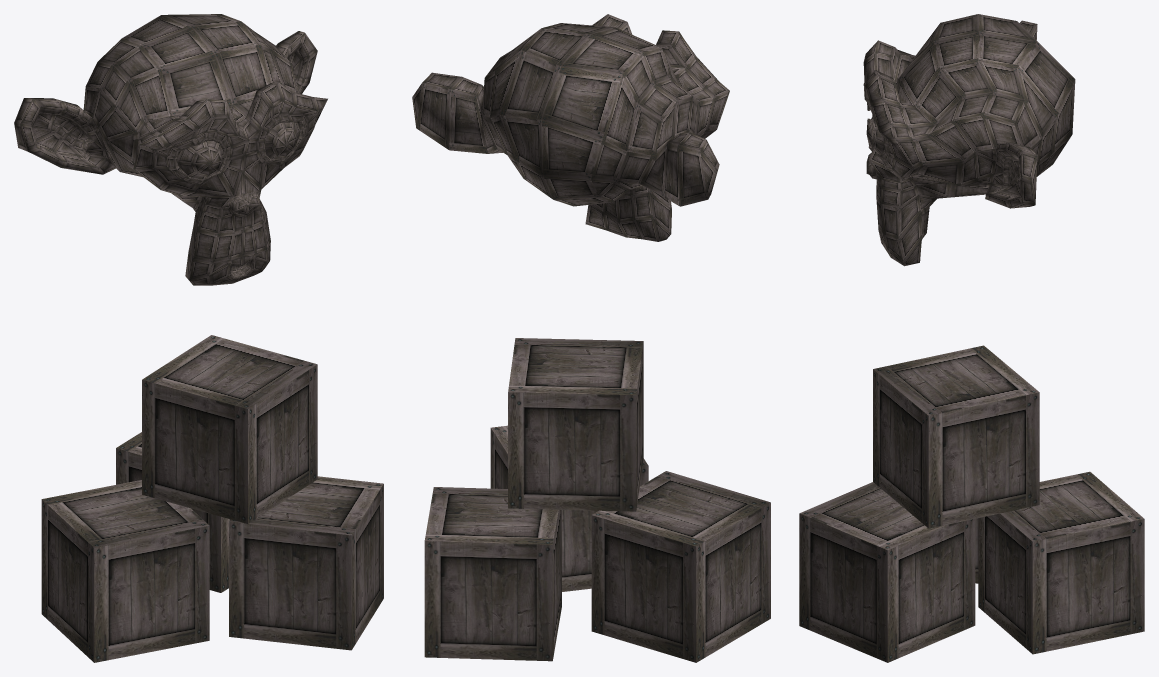
3 renders of one model, left to right at view 1: azimuth 30°, elevation 25°; view 2: azimuth 150°, elevation 25°; view 3: azimuth 270°, elevation 25°, orthographic. The views are drawn at different scales.
Parts seen in each view (by area): view 1: Suzanne, Crate.003_Cube.001, Crate.002_Cube.001, Crate.001_Cube.001, Crate_Cube.001; view 2: Suzanne, Crate.002_Cube.001, Crate.003_Cube.001, Crate_Cube.001, Crate.001_Cube.001; view 3: Suzanne, Crate.003_Cube.001, Crate.001_Cube.001, Crate_Cube.001.
Part boxes in pixels (x1=…): Suzanne: x1=14, y1=14, x2=327, y2=285; Crate.003_Cube.001: x1=142, y1=335, x2=317, y2=523; Crate.002_Cube.001: x1=41, y1=480, x2=209, y2=662; Crate.001_Cube.001: x1=229, y1=476, x2=383, y2=650; Crate_Cube.001: x1=116, y1=432, x2=230, y2=592; Suzanne: x1=412, y1=14, x2=729, y2=241; Crate.002_Cube.001: x1=591, y1=471, x2=770, y2=662; Crate.003_Cube.001: x1=508, y1=338, x2=643, y2=511; Crate_Cube.001: x1=424, y1=487, x2=561, y2=661; Crate.001_Cube.001: x1=490, y1=425, x2=648, y2=591; Suzanne: x1=863, y1=14, x2=1075, y2=266; Crate.003_Cube.001: x1=873, y1=345, x2=1039, y2=528; Crate.001_Cube.001: x1=799, y1=482, x2=975, y2=662; Crate_Cube.001: x1=978, y1=471, x2=1144, y2=654.
Size of what is drawn, in the model's own units: 5.47 by 9.97 by 5.55.
